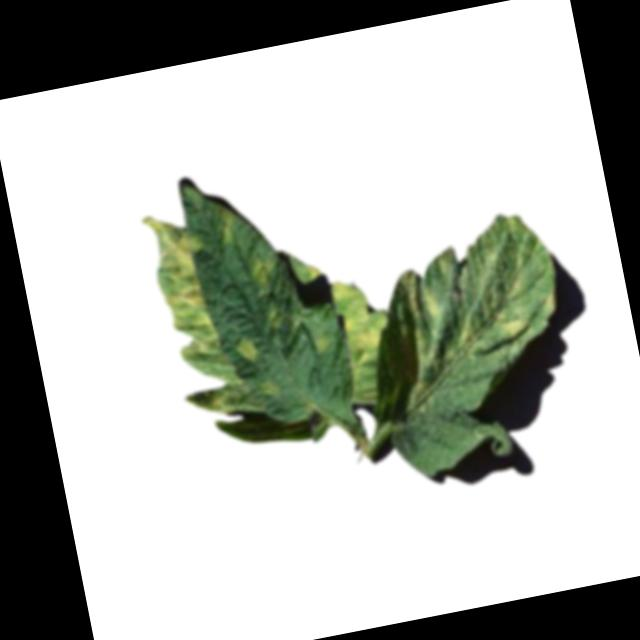Leaf_Mold: (142, 205, 225, 388), (330, 271, 396, 368), (242, 241, 282, 299), (494, 299, 536, 343), (418, 282, 448, 322), (233, 331, 264, 364), (536, 283, 559, 317)
